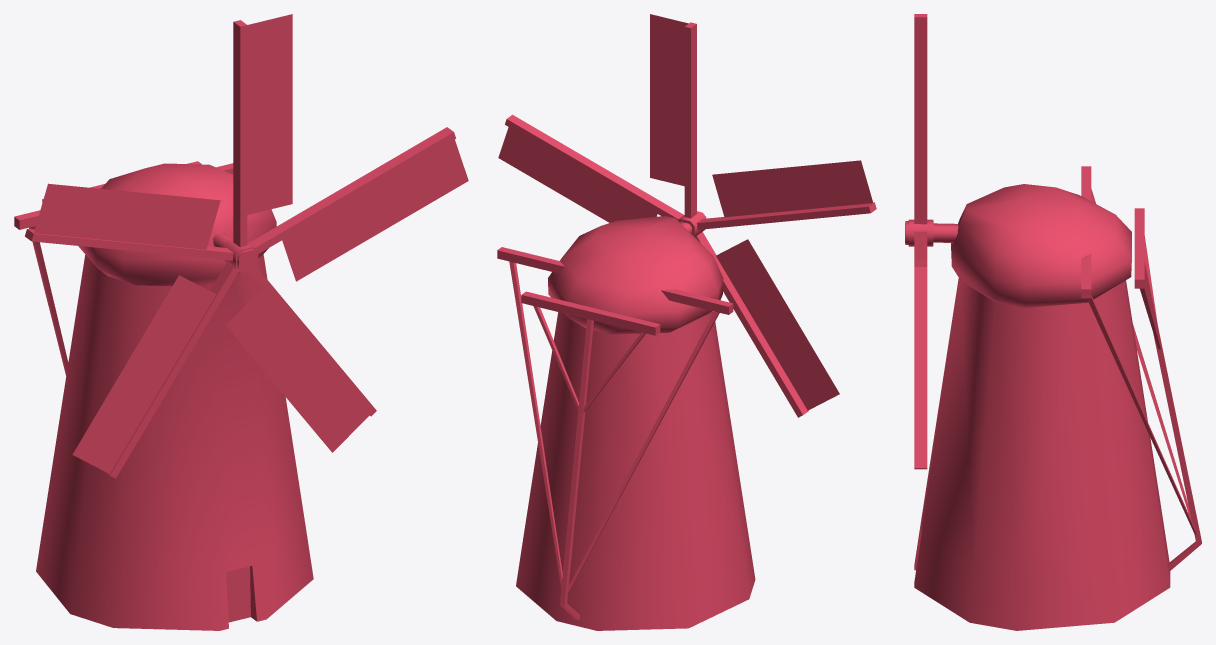
File: Molen.fbx
The picture shows the model from 3 angles, left to right: view 1: azimuth 30°, elevation 25°; view 2: azimuth 150°, elevation 25°; view 3: azimuth 270°, elevation 25°; orthographic projection. The views are drawn at different scales.
Parts seen in each view (by area): view 1: Molen; view 2: Molen; view 3: Molen.
Boxes of the visible parts, x1,y1,x2,y2 form: Molen: (14, 14, 468, 630); Molen: (497, 14, 876, 630); Molen: (905, 14, 1201, 630).
Size of the model in its own units: 34.33 by 44.86 by 21.49.
